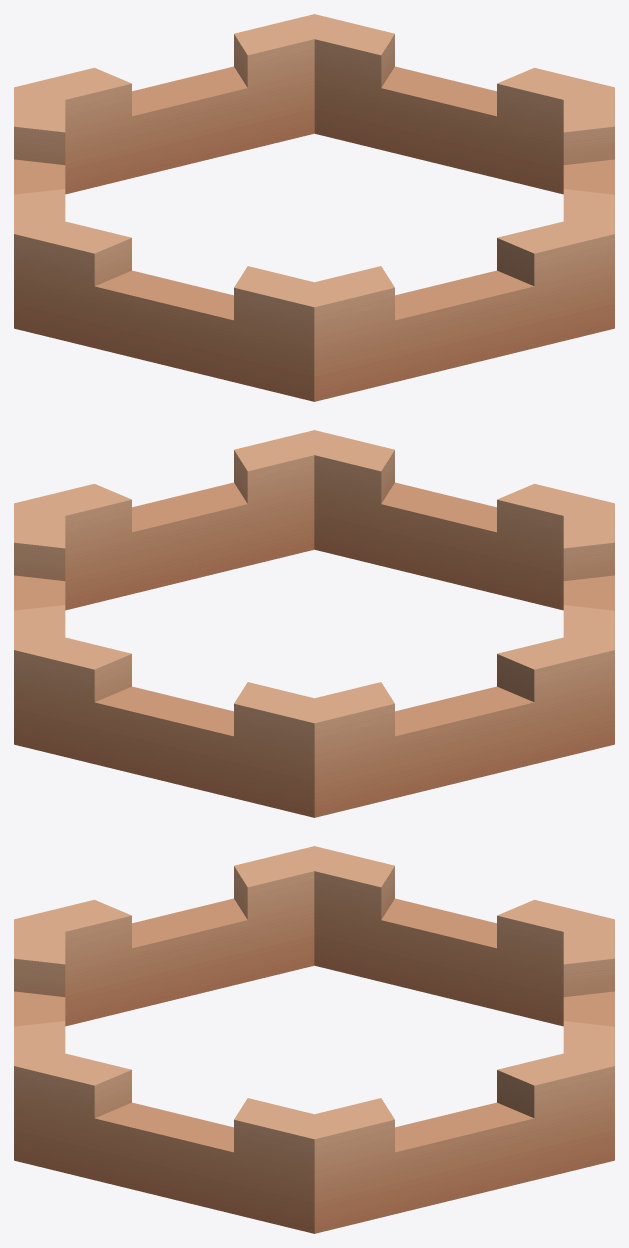
File: tower-hexagon-top.glb
3 renders of one model, top to bottom at view 1: azimuth 30°, elevation 25°; view 2: azimuth 150°, elevation 25°; view 3: azimuth 270°, elevation 25°, orthographic.
Parts seen in each view (by area): view 1: tower-hexagon-top; view 2: tower-hexagon-top; view 3: tower-hexagon-top.
Boxes of the visible parts, box(x1,y1,x2,y2) form: tower-hexagon-top: box(14, 14, 614, 401); tower-hexagon-top: box(14, 430, 614, 817); tower-hexagon-top: box(14, 846, 614, 1233).
Size of the model in its own units: 0.864 by 0.1299 by 0.7483.
1 material, 1 textured.
